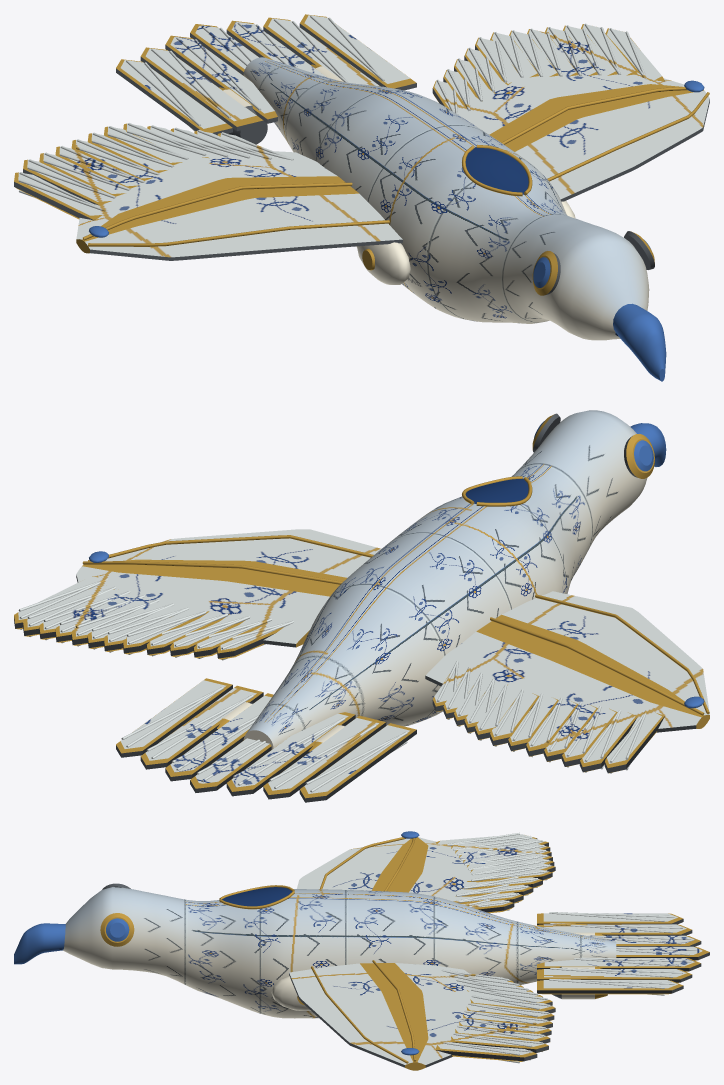
3 views of the same model, one above another, from view 1: azimuth 30°, elevation 25°; view 2: azimuth 150°, elevation 25°; view 3: azimuth 270°, elevation 25° (orthographic). The views are drawn at different scales.
Parts seen in each view (by area): view 1: oxpecker_hull; view 2: oxpecker_hull; view 3: oxpecker_hull.
Part boxes in pixels (x1,y1,x2,y2): oxpecker_hull: [14, 14, 709, 381]; oxpecker_hull: [14, 410, 709, 802]; oxpecker_hull: [14, 831, 709, 1070].
Bounding box in the file's own units: 12.31 × 3.09 × 16.
1 material, 1 textured.
